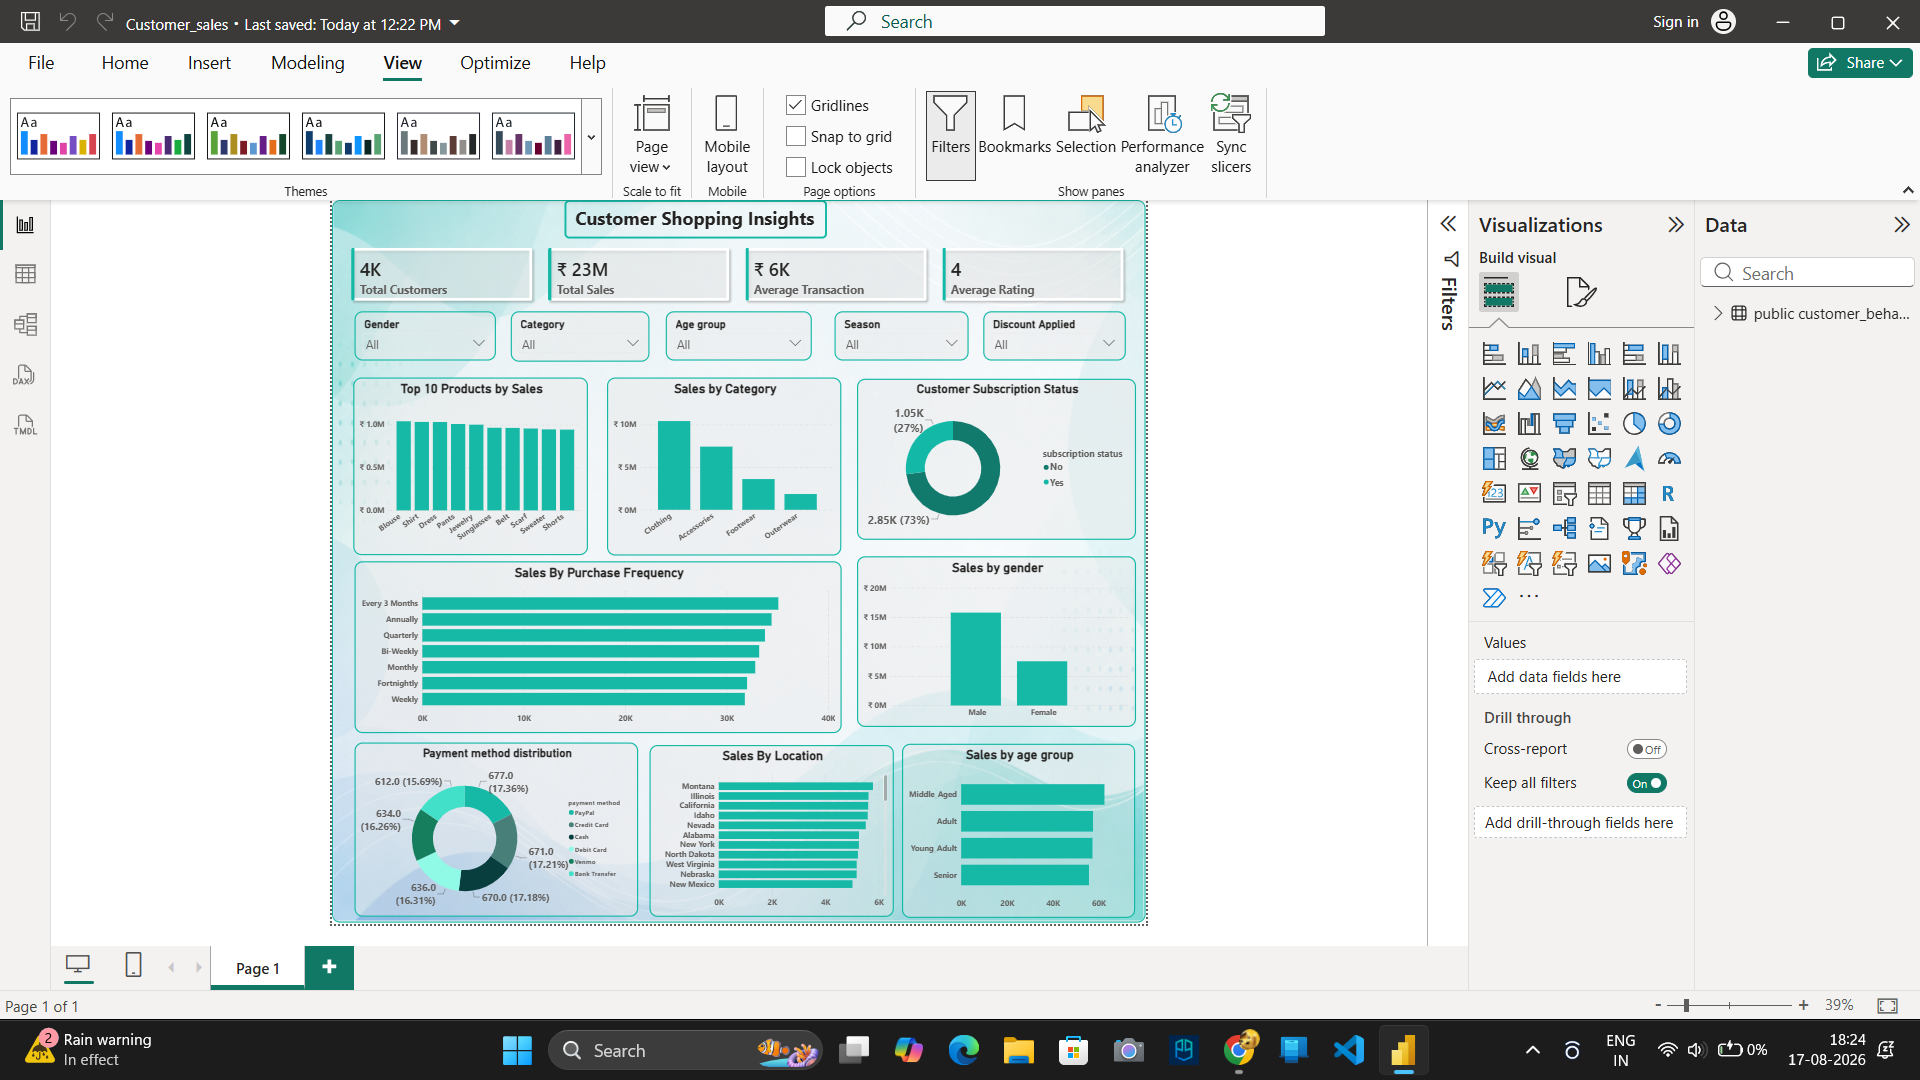

Layout of this report page (visuals, bound fields, positions):
{"tool":"powerbi","page":{"name":"Page 1","canvas":[1689,1502],"ordinal":0},"visuals":[{"type":"image","box":[0,0,1688.7,1500],"z":0},{"type":"cardVisual","fields":{"Data":["public customer_behaviour.Total Customers","public customer_behaviour.Total Sales","public customer_behaviour.Average Transaction","public customer_behaviour.Average Rating"]},"box":[15.3,74,1653,158.2],"z":1000},{"type":"textbox","box":[481.5,0,545.2,79.8],"z":2000},{"type":"slicer","fields":{"Values":["public customer_behaviour.gender"]},"box":[45.9,232.1,293.4,102],"z":3000},{"type":"slicer","fields":{"Values":["public customer_behaviour.category"]},"box":[369.9,232.1,288.3,104.6],"z":4000},{"type":"slicer","fields":{"Values":["public customer_behaviour.age_group"]},"box":[693.9,232.1,303.6,102],"z":5000},{"type":"slicer","fields":{"Values":["public customer_behaviour.season"]},"box":[1043.3,232.1,278.1,102],"z":6000},{"type":"donutChart","title":"Customer Subscription Status","fields":{"Category":["public customer_behaviour.subscription_status"],"Y":["CountNonNull(public customer_behaviour.customer_id)"]},"box":[1089.3,369.9,579.1,334.2],"z":7000},{"type":"columnChart","title":"Sales by Category","fields":{"Category":["public customer_behaviour.category"],"Y":["public customer_behaviour.Total Sales ₹"]},"box":[570.7,369.4,486.6,369.4],"z":8000},{"type":"columnChart","title":"Top 10 Products by Sales","fields":{"Y":["public customer_behaviour.Total Sales ₹"],"Category":["public customer_behaviour.item_purchased"]},"box":[45.2,368.5,487.4,368.5],"z":9000},{"type":"clusteredColumnChart","title":"Sales by gender","fields":{"Category":["public customer_behaviour.gender"],"Y":["public customer_behaviour.Total Sales ₹"]},"box":[1089.3,739.8,579.1,354.6],"z":10000},{"type":"clusteredBarChart","title":"Sales by age group","fields":{"Category":["public customer_behaviour.age_group"],"Y":["Sum(public customer_behaviour.purchase_amount)"]},"box":[1183.6,1127.5,484,361.8],"z":11000},{"type":"donutChart","title":"Payment method distribution","fields":{"Category":["public customer_behaviour.payment_method"],"Y":["CountNonNull(public customer_behaviour.customer_id)"]},"box":[45.9,1125,588.5,361.8],"z":12000},{"type":"slicer","fields":{"Values":["public customer_behaviour.discount_applied"]},"box":[1352,232.1,295.9,102],"z":13000},{"type":"clusteredBarChart","title":"Sales By Purchase Frequency","fields":{"Category":["public customer_behaviour.frequency_of_purchases"],"Y":["Sum(public customer_behaviour.purchase_amount)"]},"box":[45.9,749,1011.4,356.7],"z":14000},{"type":"barChart","title":"Sales By Location","fields":{"Category":["public customer_behaviour.location"],"Y":["Sum(public customer_behaviour.purchase_amount)"]},"box":[658.1,1130.1,507,356.7],"z":15000}]}

Visuals, with their boxes in screenshot pixels (x1, y1, x2, y2):
image: (x1=325, y1=0, x2=1480, y2=1016)
cardVisual - public customer_behaviour.Total Customers x public customer_behaviour.Total Sales: (x1=335, y1=41, x2=1466, y2=149)
textbox: (x1=654, y1=0, x2=1027, y2=45)
slicer - public customer_behaviour.gender: (x1=356, y1=149, x2=557, y2=219)
slicer - public customer_behaviour.category: (x1=578, y1=149, x2=775, y2=220)
slicer - public customer_behaviour.age_group: (x1=800, y1=149, x2=1007, y2=219)
slicer - public customer_behaviour.season: (x1=1039, y1=149, x2=1229, y2=219)
"Customer Subscription Status" donutChart: (x1=1070, y1=243, x2=1466, y2=472)
"Sales by Category" columnChart: (x1=715, y1=243, x2=1048, y2=495)
"Top 10 Products by Sales" columnChart: (x1=356, y1=242, x2=689, y2=494)
"Sales by gender" clusteredColumnChart: (x1=1070, y1=496, x2=1466, y2=739)
"Sales by age group" clusteredBarChart: (x1=1135, y1=761, x2=1466, y2=1009)
"Payment method distribution" donutChart: (x1=356, y1=759, x2=759, y2=1007)
slicer - public customer_behaviour.discount_applied: (x1=1250, y1=149, x2=1452, y2=219)
"Sales By Purchase Frequency" clusteredBarChart: (x1=356, y1=502, x2=1048, y2=746)
"Sales By Location" barChart: (x1=775, y1=763, x2=1122, y2=1007)
